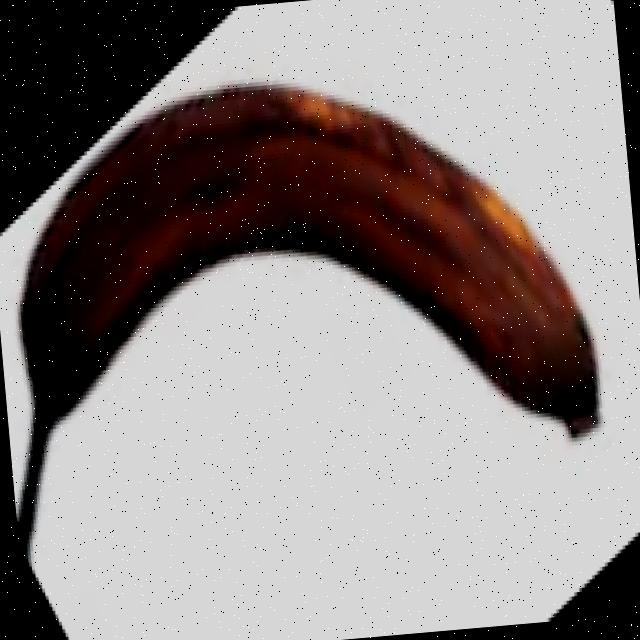Rotten: (0, 18, 629, 616)
